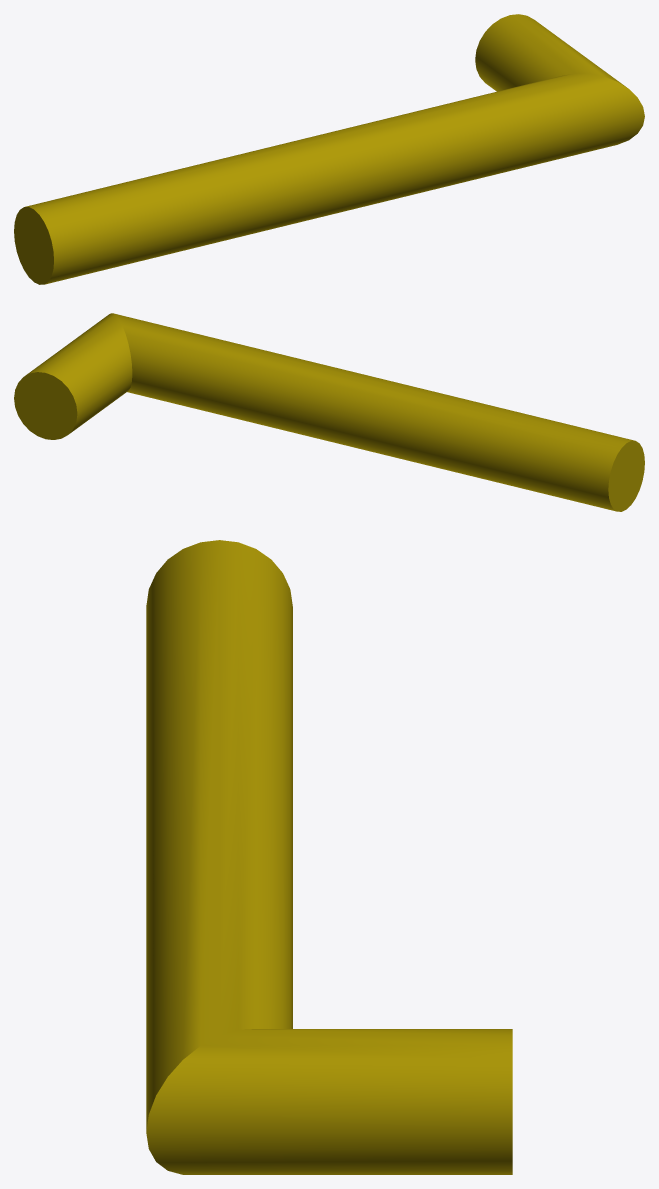
The model's file is 9960025-handle-right.dae.
The picture shows the model from 3 angles, top to bottom: view 1: azimuth 30°, elevation 25°; view 2: azimuth 150°, elevation 25°; view 3: azimuth 270°, elevation 25°; orthographic projection. The views are drawn at different scales.
Parts seen in each view (by area): view 1: group_0.035; view 2: group_0.035; view 3: group_0.035.
Part boxes in pixels (bbox=[...]): group_0.035: bbox=[14, 14, 644, 284]; group_0.035: bbox=[14, 313, 644, 511]; group_0.035: bbox=[146, 540, 512, 1174].
Size of the model in its own units: 0.108 by 0.0318 by 0.0127.
